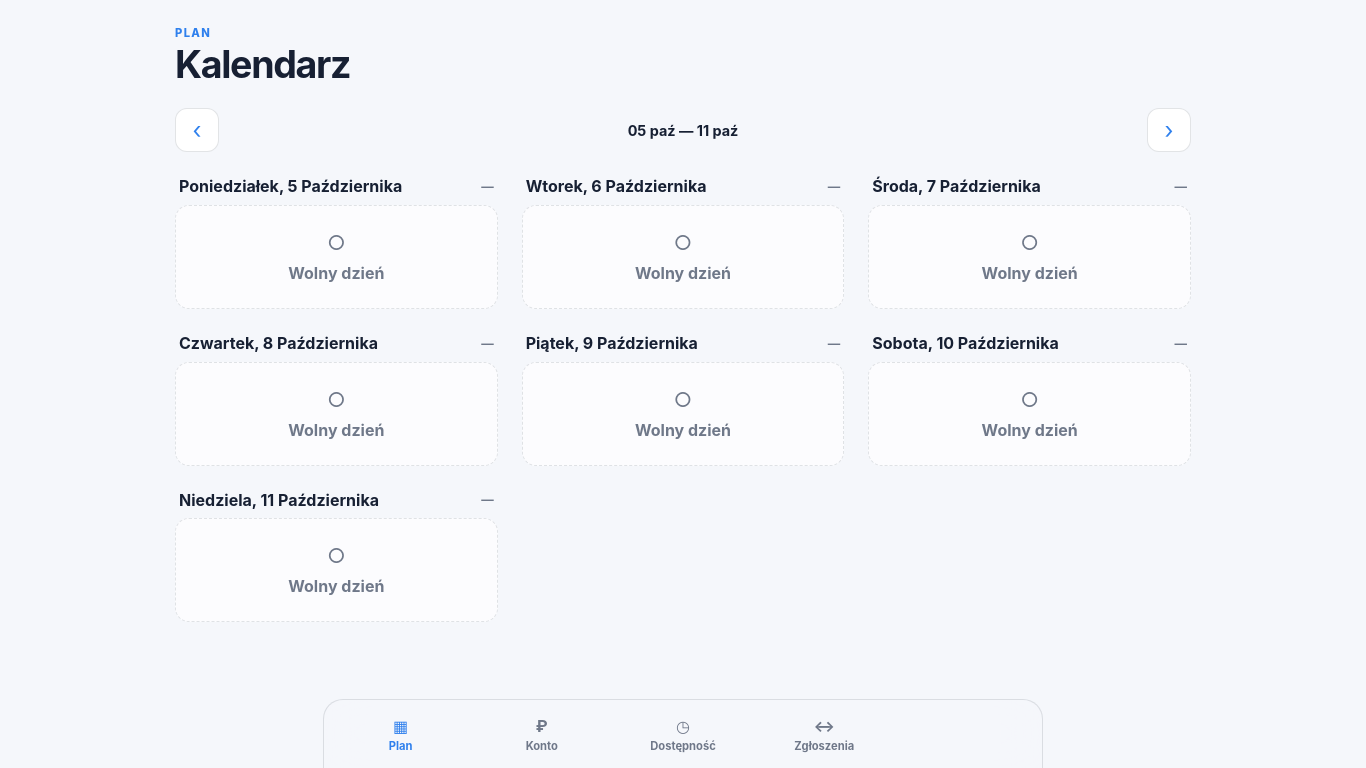
Test: mobile navigation › uses native date and time controls for a student lesson request
What coordinates should you click on to do the following:
click the button "↔ Zgłoszenia"
I would click on:
 (824, 734)
Its box is [754,706,895,762].
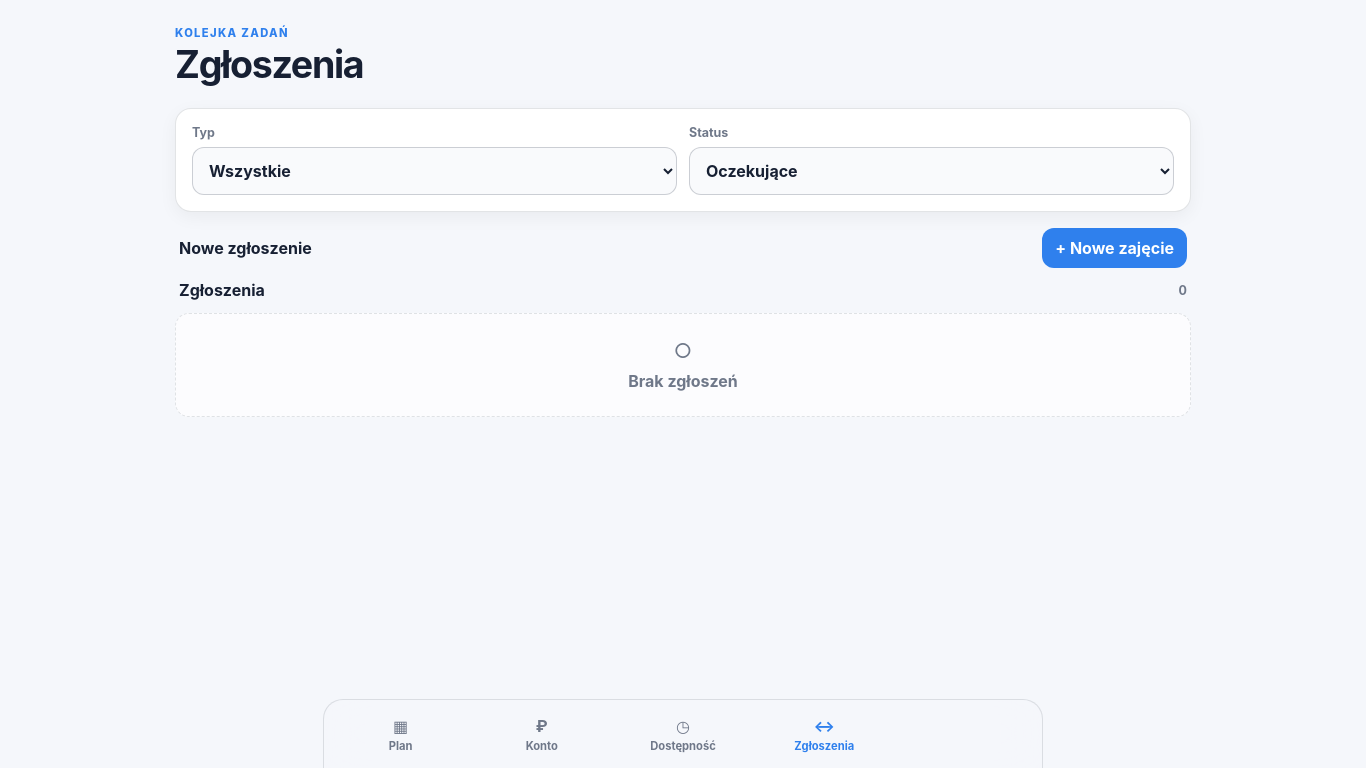
What coordinates should you click on to do the following:
click the button "+ Nowe zajęcie"
I would click on:
 (1115, 248)
Its box is [1042,228,1187,268].
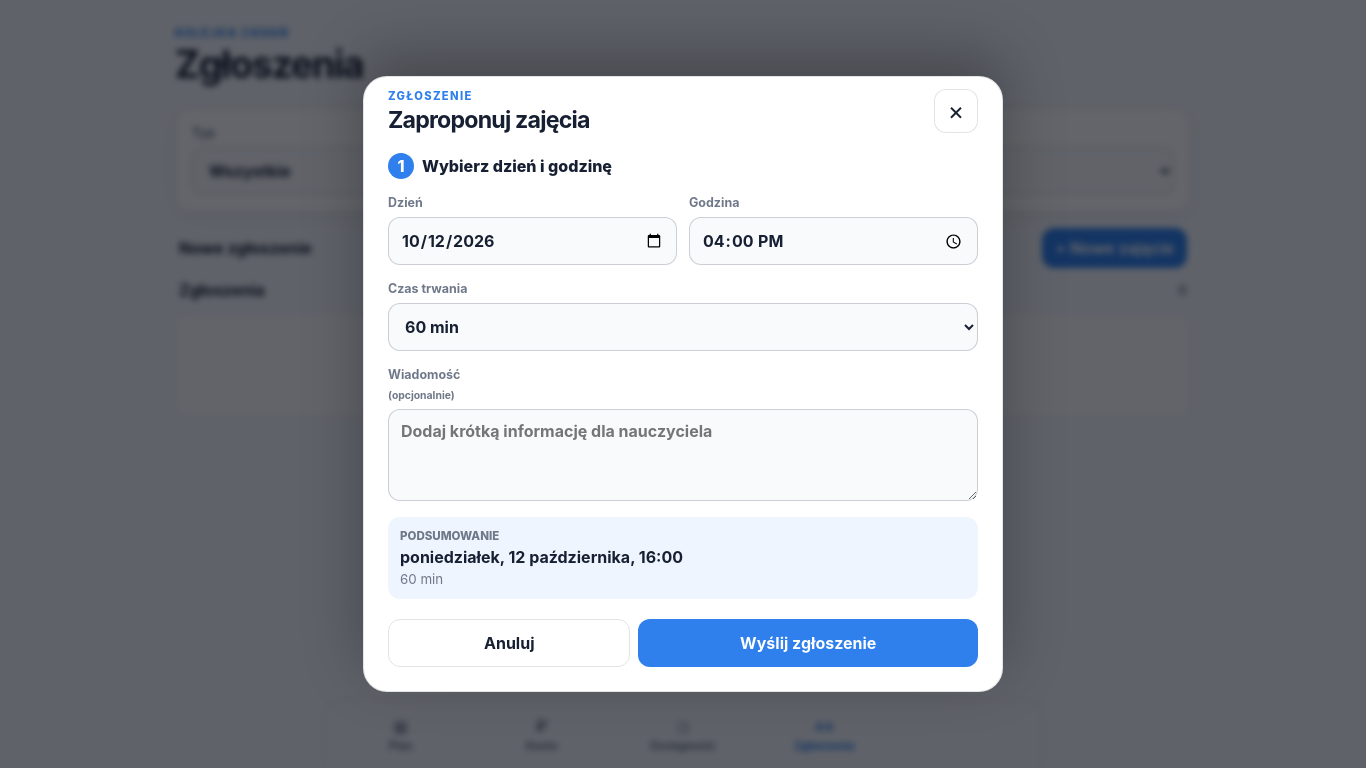
Expected: the button "Wyślij zgłoszenie" is enabled, [638,619,978,667]
